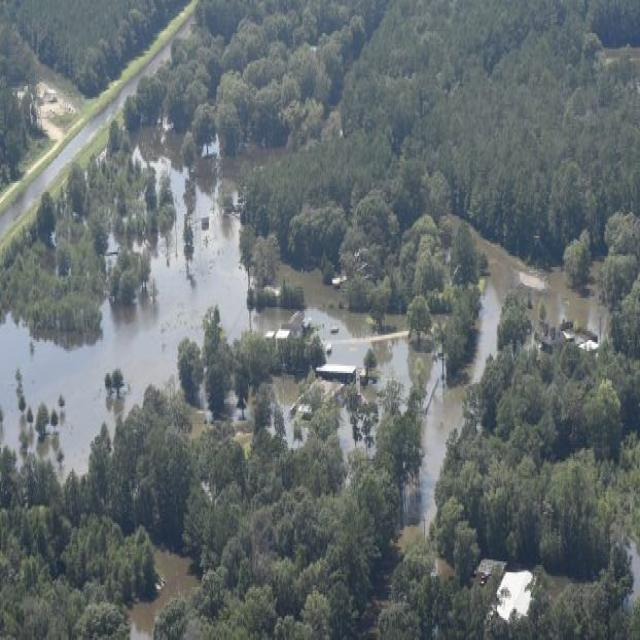flooded_areas: (5, 176, 594, 487)
